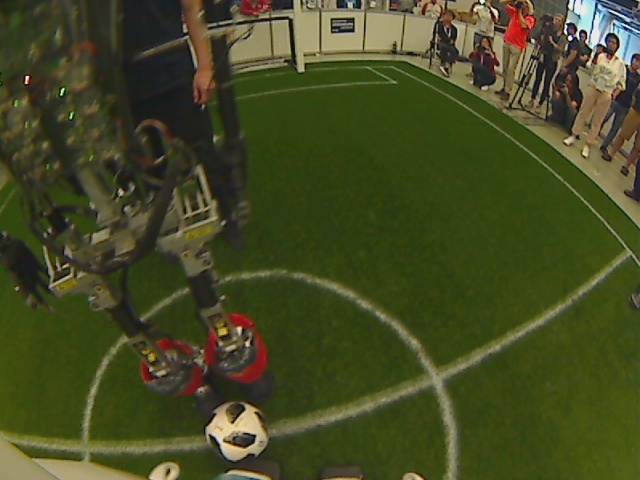ball: (201, 398, 273, 467)
